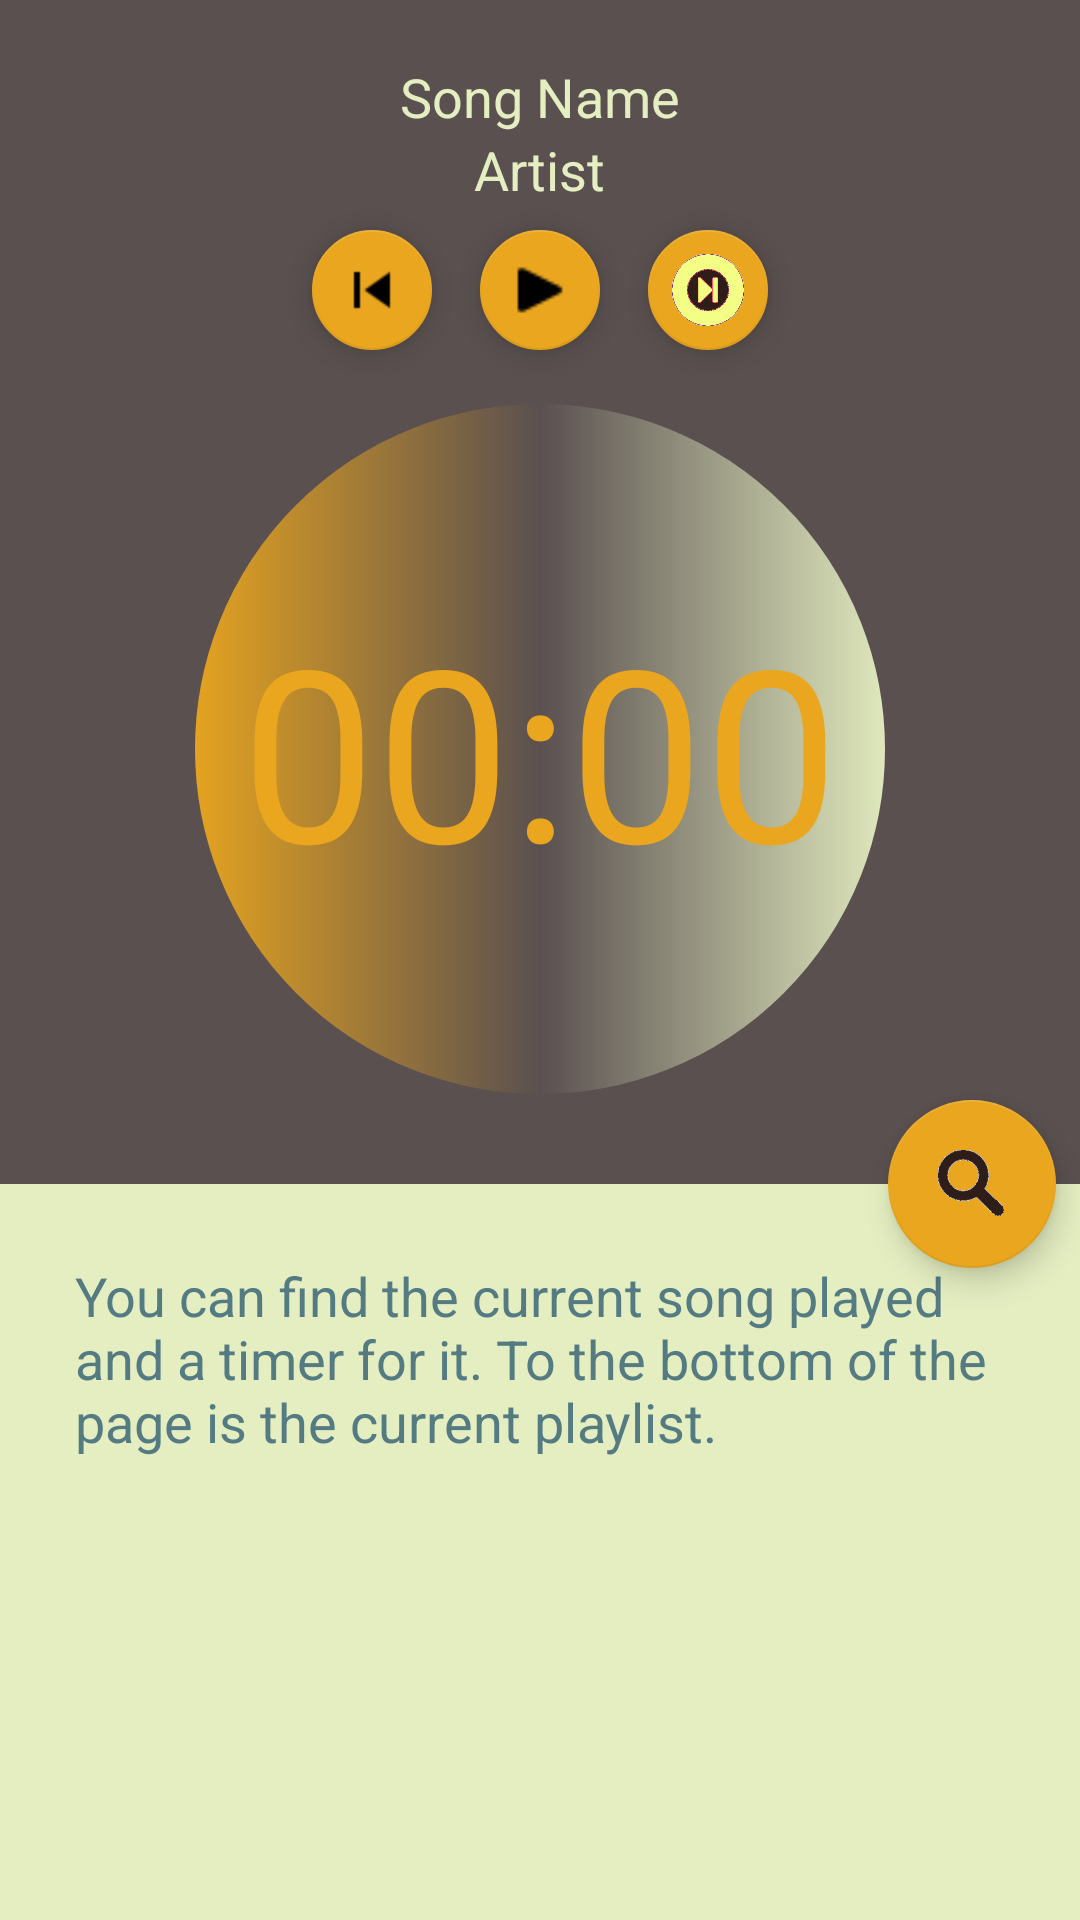

Screen size 1080 x 1920. Icon name, then its center in pixels as (x=x, y=y):
next: (x=708, y=290)
play: (x=540, y=290)
previous: (x=372, y=290)
